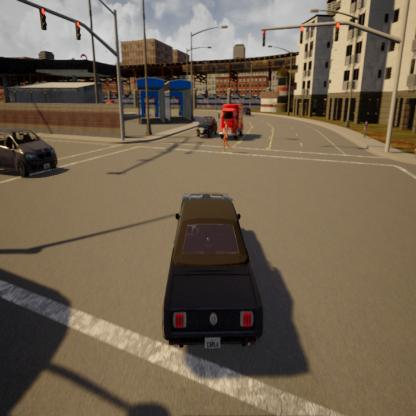Cars: (150, 178, 268, 358), (0, 116, 67, 189), (217, 102, 243, 138), (196, 111, 217, 140), (242, 103, 253, 116)
Pedestrian: (221, 118, 234, 152)
